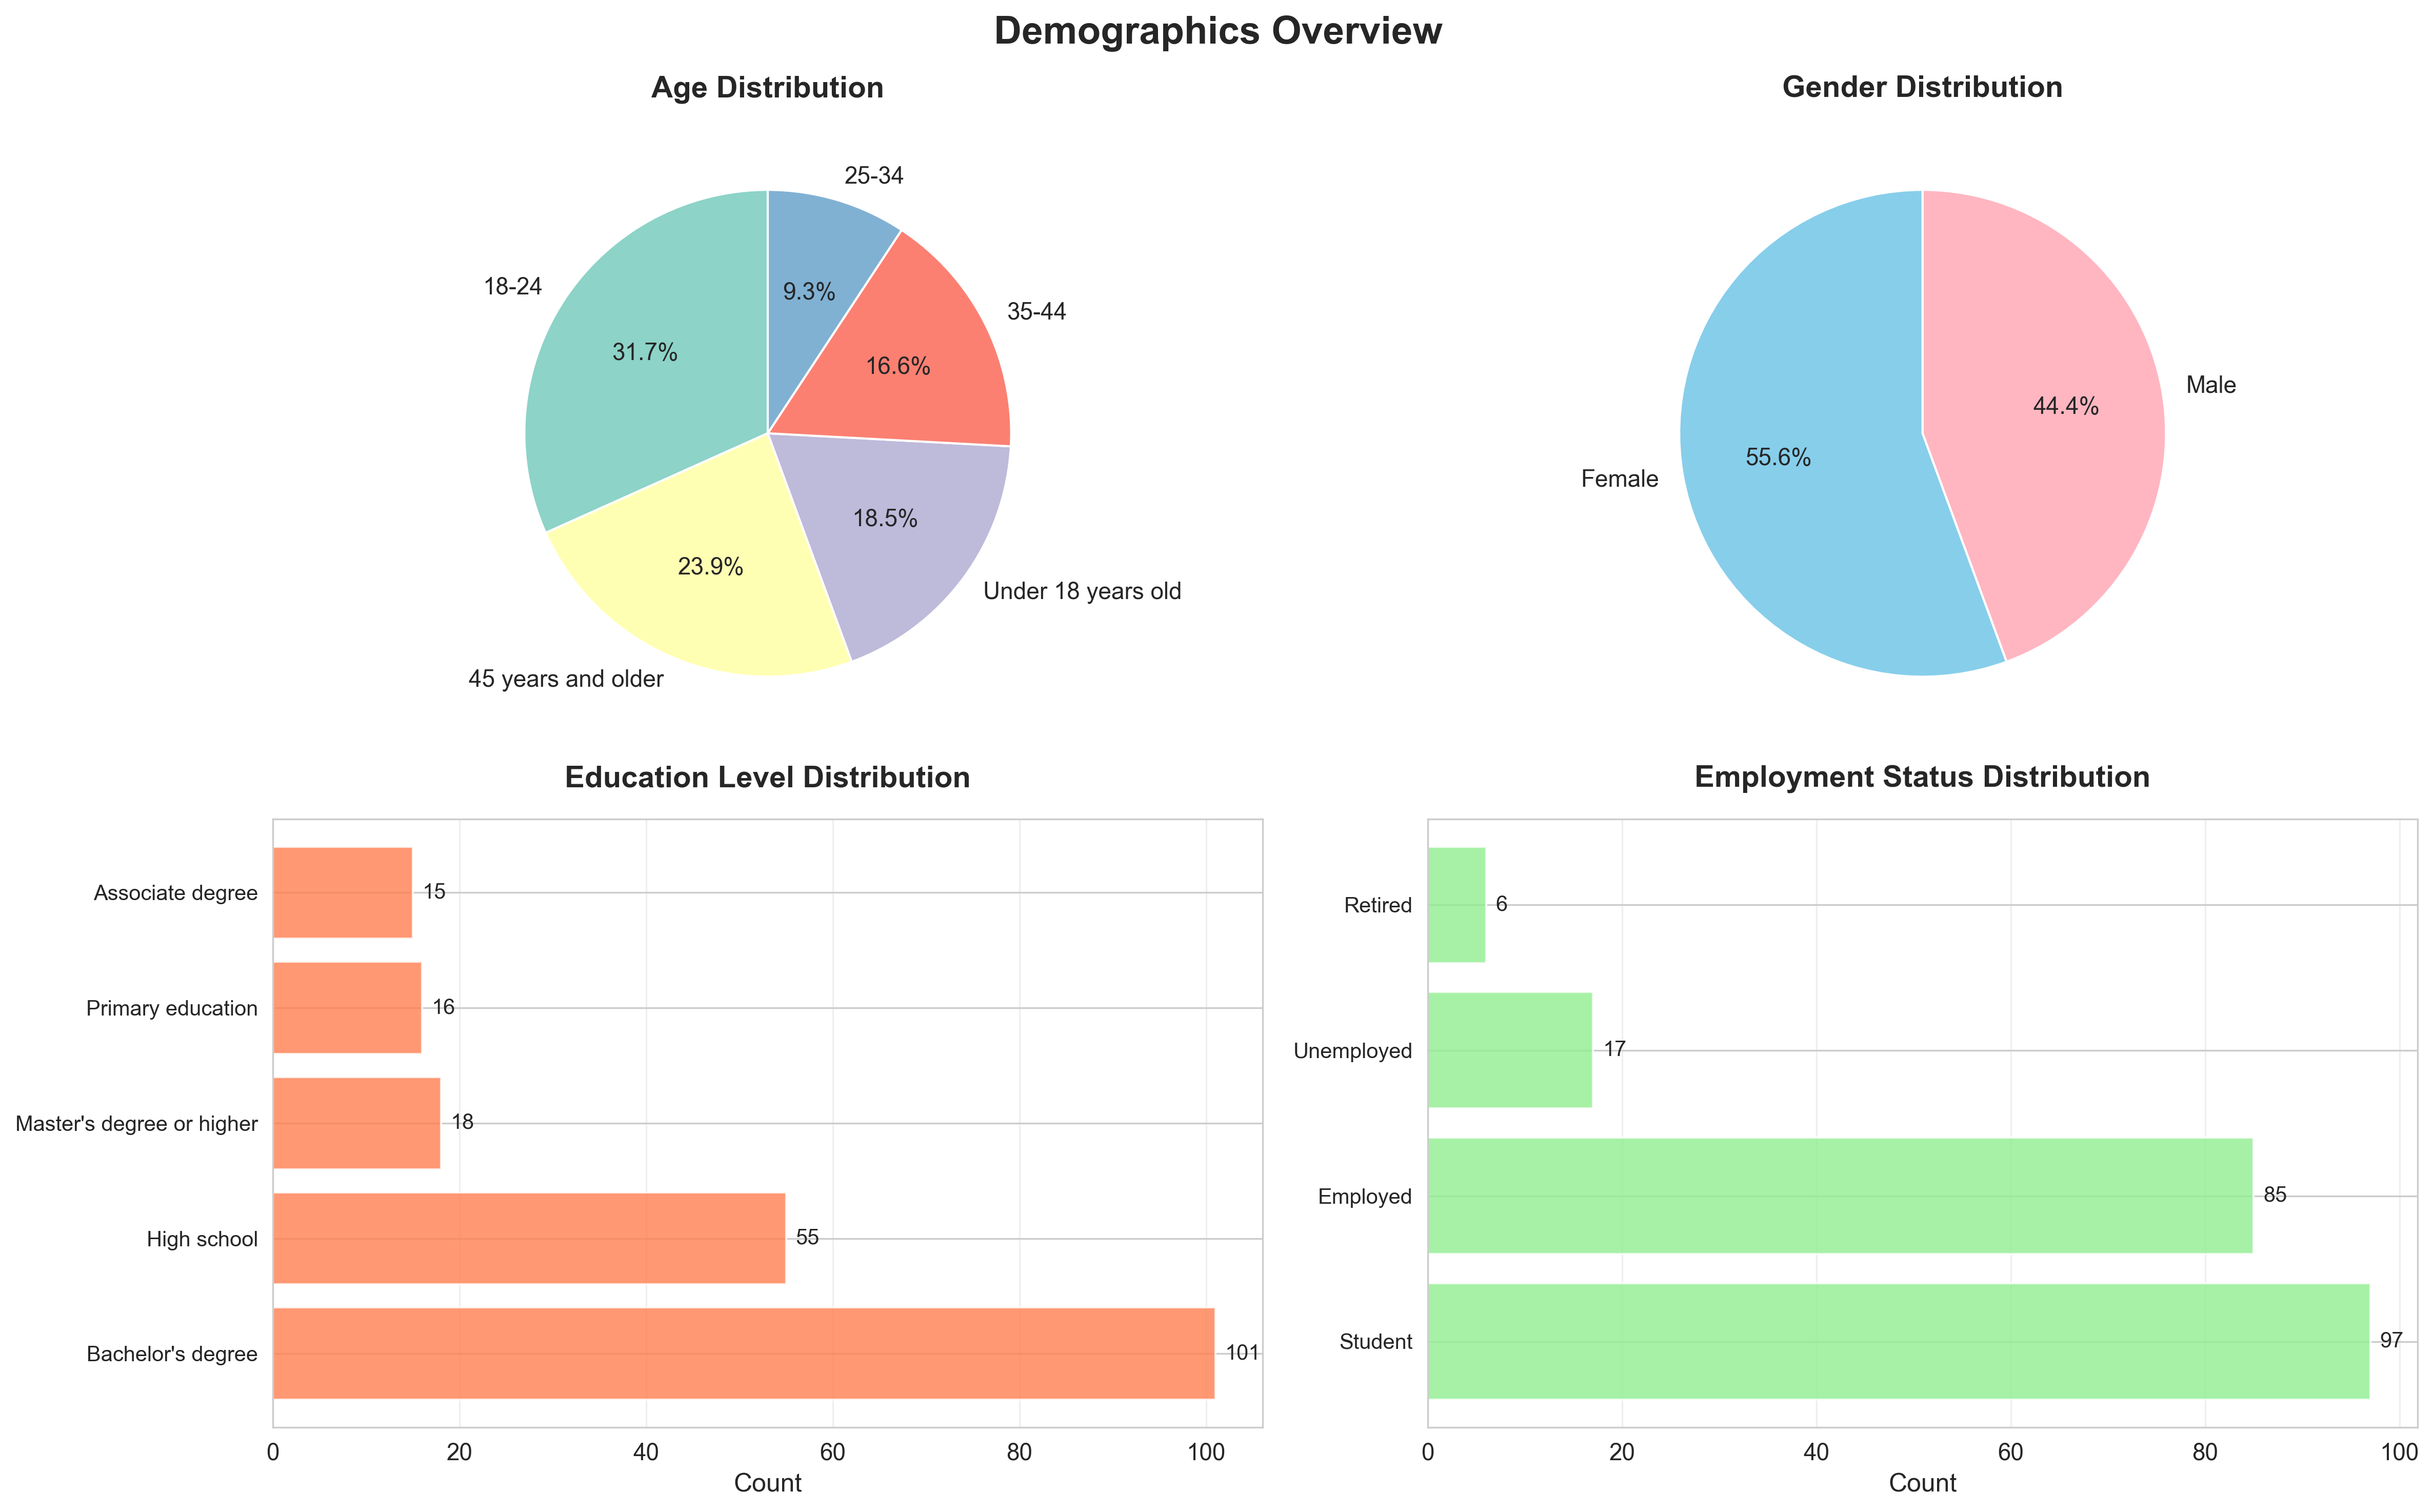

The dashboard page shown, as its layout file describes it:
{"tool":"powerbi","page":{"name":"Page 1","canvas":[1280,720],"ordinal":0},"visuals":[{"type":"clusteredColumnChart","title":"Education levels","fields":{"Category":["data_final_with_derived_columns (1).What is your education level?"],"Y":["CountNonNull(data_final_with_derived_columns (1).What is your education level?)"]},"box":[26.9,11.8,680.3,347.7],"z":0},{"type":"clusteredColumnChart","title":"Employment status","fields":{"Category":["data_final_with_derived_columns (1).What is your employment status?"],"Y":["CountNonNull(data_final_with_derived_columns (1).What is your employment status?)"]},"box":[26.9,374.6,680.3,288.9],"z":1000},{"type":"donutChart","title":"Age Distribution","fields":{"Y":["CountNonNull(data_final_with_derived_columns (1).ID)"],"Category":["data_final_with_derived_columns (1).What is your age range?"]},"box":[707.2,0,561,330.9],"z":2000},{"type":"pieChart","title":"Gender category","fields":{"Category":["data_final_with_derived_columns (1).What is your gender?"],"Y":["CountNonNull(data_final_with_derived_columns (1).What is your gender?)"]},"box":[724,359.5,544.3,330.9],"z":3000}]}

Visuals, with their boxes on the page's 1280x720 design canvas (x1, y1, x2, y2). These are canvas units, not pixel positions in the 2434x1512 screenshot, which may show the page scaled, cropped or inside an application window:
"Education levels" clusteredColumnChart: <bbox>27, 12, 707, 360</bbox>
"Employment status" clusteredColumnChart: <bbox>27, 375, 707, 664</bbox>
"Age Distribution" donutChart: <bbox>707, 0, 1268, 331</bbox>
"Gender category" pieChart: <bbox>724, 360, 1268, 690</bbox>
